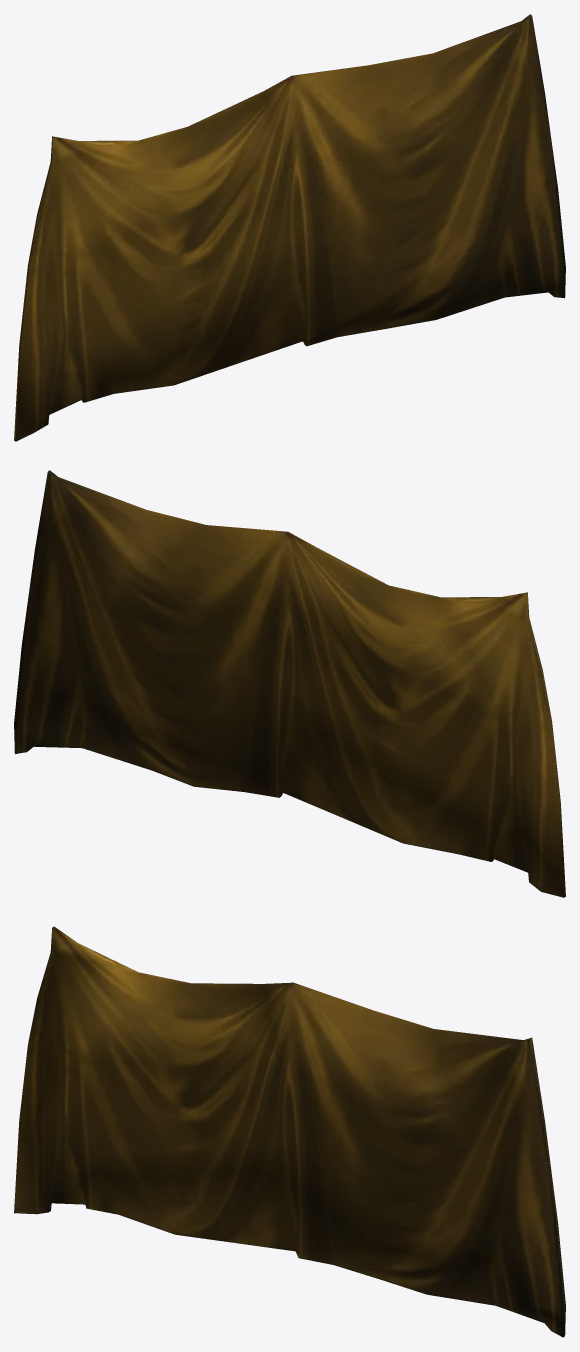
Rendered from GS_VOB_LITTLECURTAIN_05.glb.
The picture shows the model from 3 angles, top to bottom: view 1: azimuth 30°, elevation 25°; view 2: azimuth 150°, elevation 25°; view 3: azimuth 330°, elevation 25°; orthographic projection.
Visible parts, largest first — view 1: Mesh; view 2: Mesh; view 3: Mesh.
Part boxes in pixels (x1,y1,x2,y2): Mesh: (14,14,565,441); Mesh: (14,470,565,897); Mesh: (14,926,565,1337).
Bounding box in the file's own units: 1.5 × 0.7817 × 0.0421.
1 material, 1 textured.
